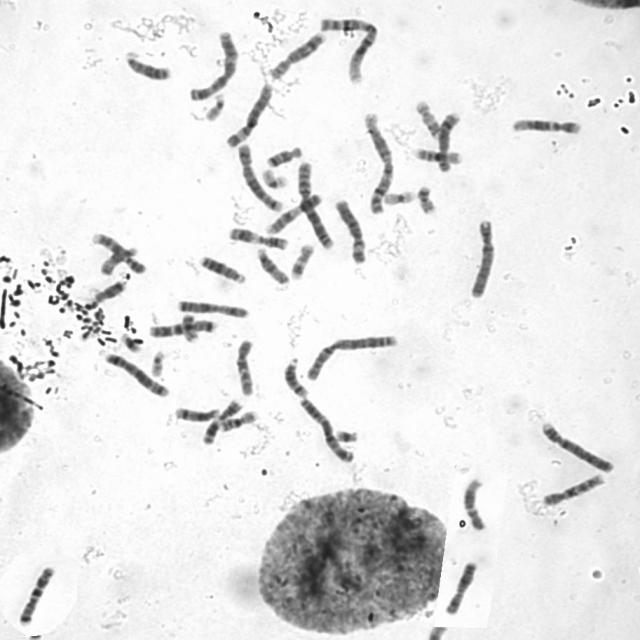A1: (316, 12, 381, 85), (360, 108, 394, 215)
A2: (302, 330, 401, 382), (293, 156, 336, 251)
A3: (296, 394, 357, 465), (186, 26, 240, 101)
B4: (538, 418, 616, 473), (465, 215, 497, 299)
B5: (234, 139, 284, 213), (101, 349, 171, 398)
C10: (539, 470, 607, 507), (232, 335, 256, 397)
C11: (200, 396, 244, 446), (225, 223, 290, 251)
C12: (459, 474, 490, 532), (508, 114, 583, 135)
C6: (222, 80, 276, 148), (330, 195, 369, 265)
C7: (15, 561, 58, 627), (146, 316, 219, 339)
C8: (266, 28, 328, 81), (434, 108, 463, 174)
C9: (89, 228, 150, 275), (262, 190, 324, 236)
D13: (121, 47, 173, 82), (196, 252, 248, 284)
D14: (280, 354, 310, 398), (171, 403, 222, 423)
D15: (253, 243, 291, 286), (96, 242, 140, 276)
E16: (411, 144, 463, 166), (218, 407, 260, 433)
E17: (412, 96, 442, 139), (288, 240, 316, 280)
E18: (262, 142, 304, 168), (88, 278, 128, 304)
F19: (258, 165, 290, 190), (380, 186, 416, 206)
F20: (414, 182, 439, 215), (178, 311, 201, 344)
G21: (117, 329, 144, 353), (332, 425, 359, 444)
G22: (202, 89, 226, 122), (146, 346, 168, 378)
X: (442, 557, 479, 616), (173, 296, 250, 319)
